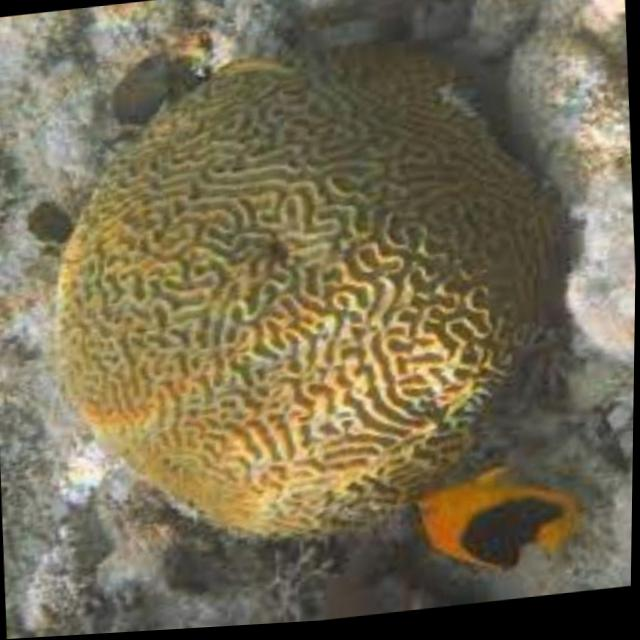Healthy Coral: (35, 21, 553, 574)
